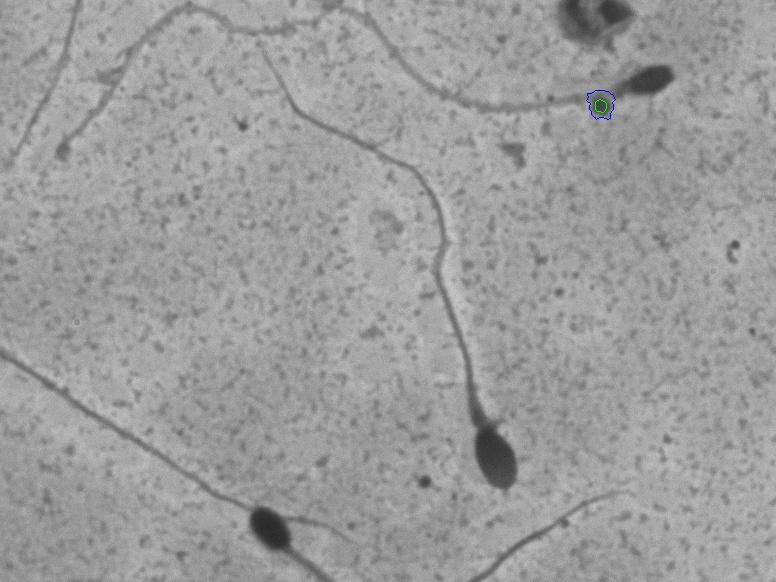Abnormal: (409, 26, 698, 139)
Normal: (240, 40, 544, 515)
